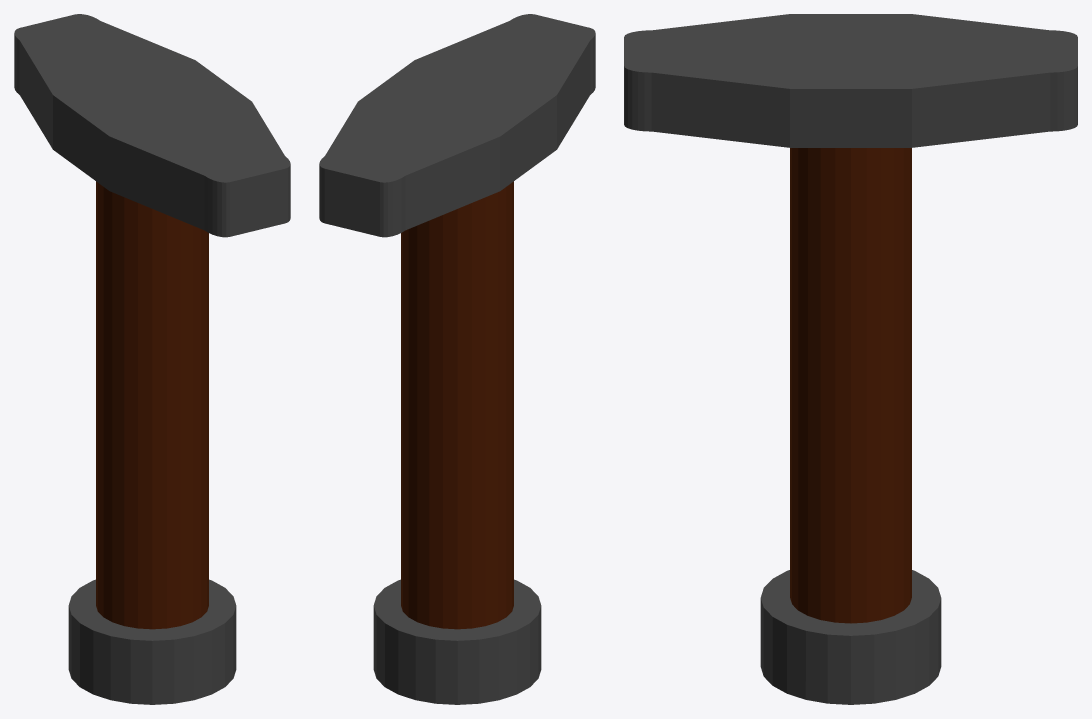
The model's file is Handle3.glb.
The picture shows the model from 3 angles, left to right: view 1: azimuth 30°, elevation 25°; view 2: azimuth 150°, elevation 25°; view 3: azimuth 270°, elevation 25°; orthographic projection. The views are drawn at different scales.
Parts seen in each view (by area): view 1: Handle3; view 2: Handle3; view 3: Handle3.
Boxes of the visible parts, x1,y1,x2,y2 form: Handle3: [14, 14, 290, 704]; Handle3: [319, 14, 595, 704]; Handle3: [624, 14, 1077, 704].
Size of the model in its own units: 0.2661 by 1 by 0.6683.
